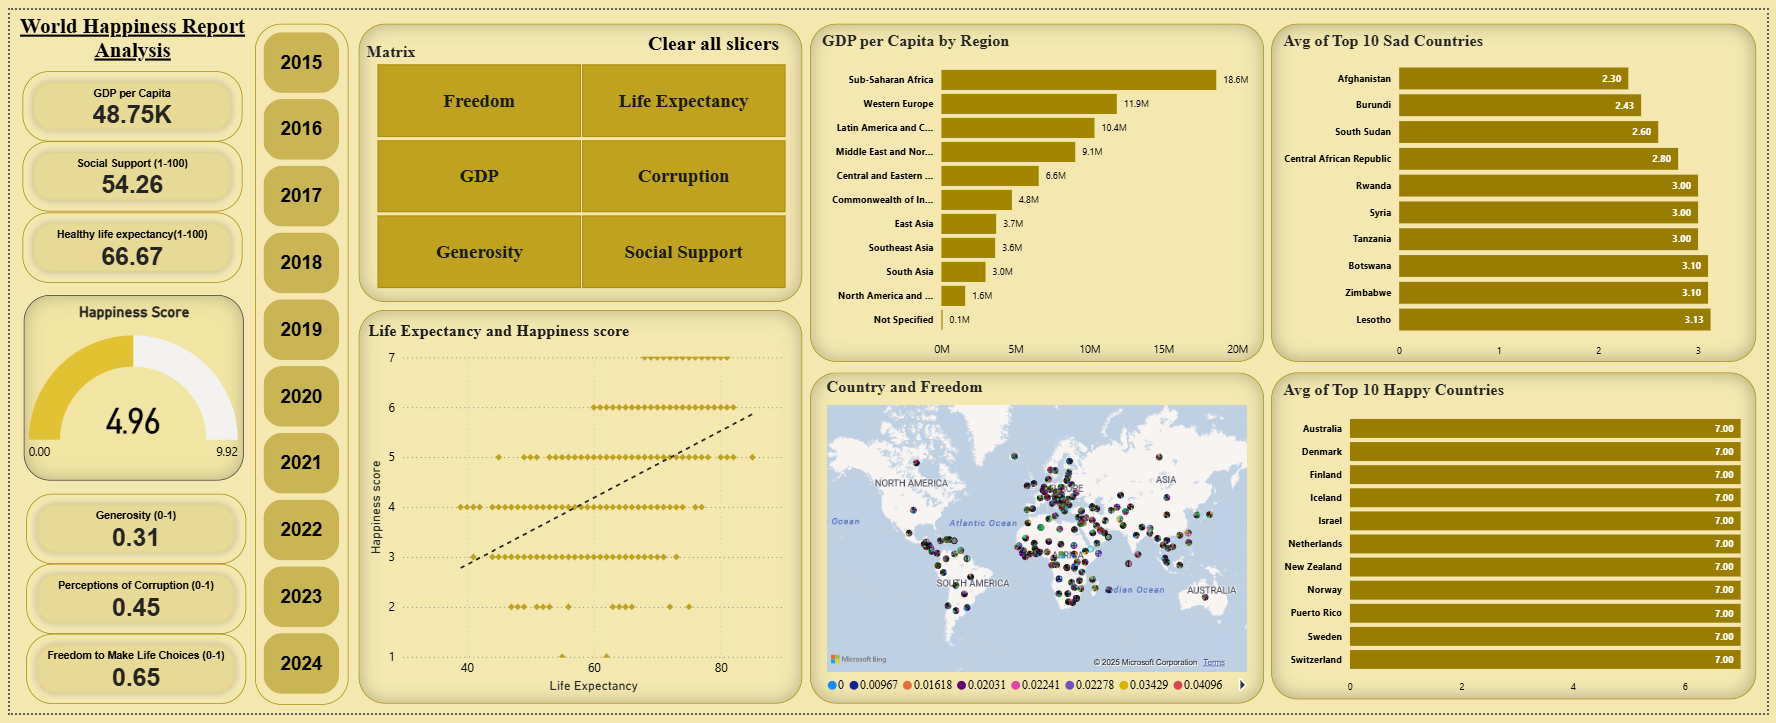

This screenshot's page, from the dashboard's own definition file:
{"tool":"powerbi","page":{"name":"Original","canvas":[2000,800],"ordinal":0},"visuals":[{"type":"textbox","box":[0,0,279,70],"z":0},{"type":"gauge","fields":{"Y":["Avg(Cleaned.Happiness score)","select"]},"box":[15.7,324.3,250,211.4],"z":1000},{"type":"cardVisual","fields":{"Data":["Avg(Cleaned.GDP per Capita)"]},"box":[14.3,70,250,80],"z":2000},{"type":"cardVisual","fields":{"Data":["Avg(Cleaned.Healthy life expectancy(1-100))"]},"box":[14.3,230,250,80],"z":3000},{"type":"cardVisual","fields":{"Data":["Avg(Cleaned.Perceptions of corruption(0-1))"]},"box":[18.6,630,250,80],"z":4000},{"type":"cardVisual","fields":{"Data":["Avg(Cleaned.Freedom to make life choices(0-1))"]},"box":[18.6,710,250,80],"z":5000},{"type":"cardVisual","fields":{"Data":["Avg(Cleaned.Generosity(0-1))"]},"box":[18.6,550,250,80],"z":6000},{"type":"cardVisual","fields":{"Data":["Avg(Cleaned.Social Support (1-100))"]},"box":[14.3,150,250,80],"z":7000},{"type":"clusteredBarChart","title":"GDP per Capita by Region","fields":{"Category":["Cleaned.Regional indicator"],"Y":["Sum(Cleaned.GDP per Capita)"]},"box":[910,15,516.7,385],"z":8000},{"type":"advancedSlicerVisual","fields":{"Values":["Cleaned.Year"]},"box":[278.3,15,106.7,775],"z":9000},{"type":"barChart","title":"Avg of Top 10 Happy Countries","fields":{"Category":["Cleaned.Country"],"Y":["Avg(Cleaned.Happiness score)"]},"box":[1435,413.3,551.7,371.7],"z":10000},{"type":"barChart","title":"Avg of Top 10 Sad Countries","fields":{"Category":["Cleaned.Country"],"Y":["Avg(Cleaned.Happiness score)"]},"box":[1435,15,551.7,385],"z":11000},{"type":"map","fields":{"Series":["Cleaned.Freedom to make life choices(0-1)"],"Category":["Cleaned.Country"]},"box":[910,413.3,516.7,376.7],"z":12000},{"type":"slicer","title":"Matrix","fields":{"Values":["Matrix.Matrix"]},"box":[396.7,15,505,316.7],"z":13000},{"type":"scatterChart","fields":{"X":["Cleaned.Freedom to make life choices(0-1)","Cleaned.GDP per Capita","Cleaned.Generosity(0-1)","Cleaned.Healthy life expectancy(1-100)","Cleaned.Perceptions of corruption(0-1)","Cleaned.Social Support (1-100)"],"Y":["Cleaned.Happiness score"]},"box":[396.7,341.7,505,448.3],"z":14000},{"type":"actionButton","box":[685,16.7,195,35],"z":15000}]}

Visuals, with their boxes in screenshot pixels (x1, y1, x2, y2), scaled from the page's 2000x800 canvas onto the 1776x723 screenshot:
textbox: bbox=(0, 0, 248, 63)
gauge - Avg(Cleaned.Happiness score) x select: bbox=(14, 293, 236, 484)
cardVisual - Avg(Cleaned.GDP per Capita): bbox=(13, 63, 235, 136)
cardVisual - Avg(Cleaned.Healthy life expectancy(1-100)): bbox=(13, 208, 235, 280)
cardVisual - Avg(Cleaned.Perceptions of corruption(0-1)): bbox=(17, 569, 239, 642)
cardVisual - Avg(Cleaned.Freedom to make life choices(0-1)): bbox=(17, 642, 239, 714)
cardVisual - Avg(Cleaned.Generosity(0-1)): bbox=(17, 497, 239, 569)
cardVisual - Avg(Cleaned.Social Support (1-100)): bbox=(13, 136, 235, 208)
"GDP per Capita by Region" clusteredBarChart: bbox=(808, 14, 1267, 362)
advancedSlicerVisual - Cleaned.Year: bbox=(247, 14, 342, 714)
"Avg of Top 10 Happy Countries" barChart: bbox=(1274, 374, 1764, 709)
"Avg of Top 10 Sad Countries" barChart: bbox=(1274, 14, 1764, 362)
map - Cleaned.Freedom to make life choices(0-1) x Cleaned.Country: bbox=(808, 374, 1267, 714)
"Matrix" slicer: bbox=(352, 14, 801, 300)
scatterChart - Cleaned.Freedom to make life choices(0-1) x Cleaned.GDP per Capita: bbox=(352, 309, 801, 714)
actionButton: bbox=(608, 15, 781, 47)
